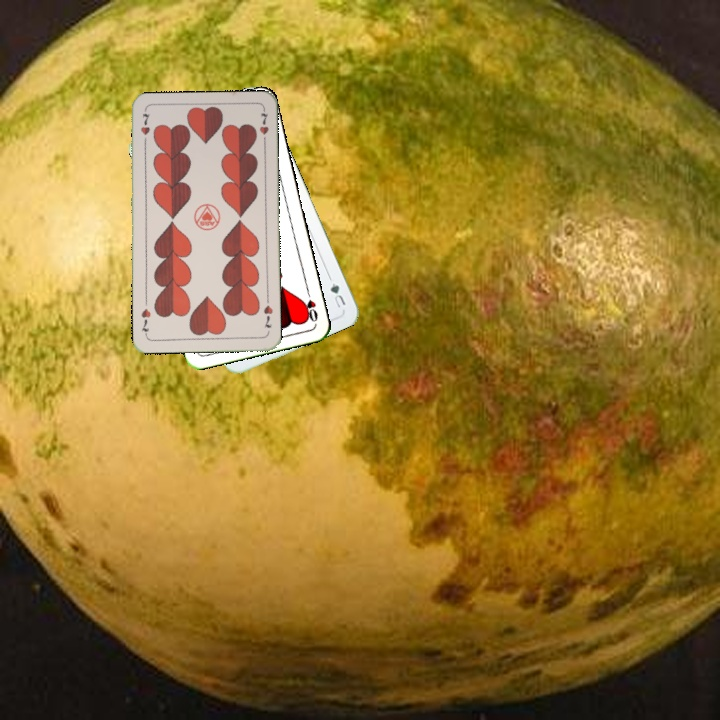GU: (326, 279, 348, 310)
H7: (136, 108, 152, 148), (260, 301, 275, 330)
HO: (299, 285, 320, 325)
